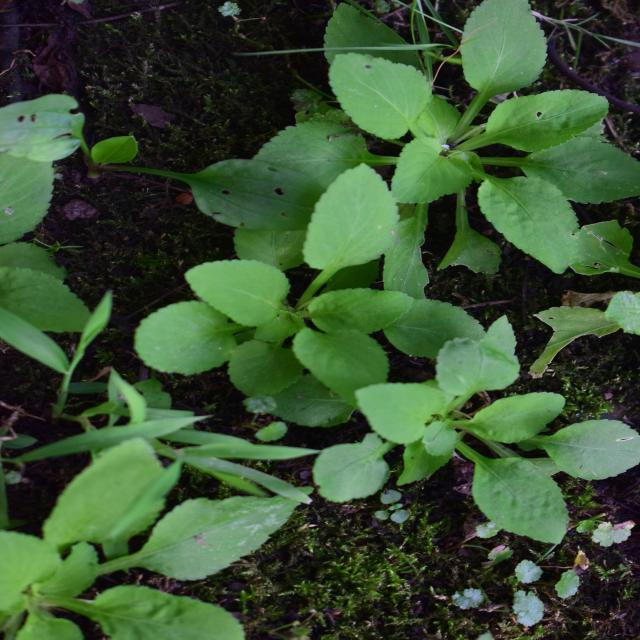Viola: (10, 0, 285, 311), (350, 3, 556, 325), (192, 170, 394, 488)
